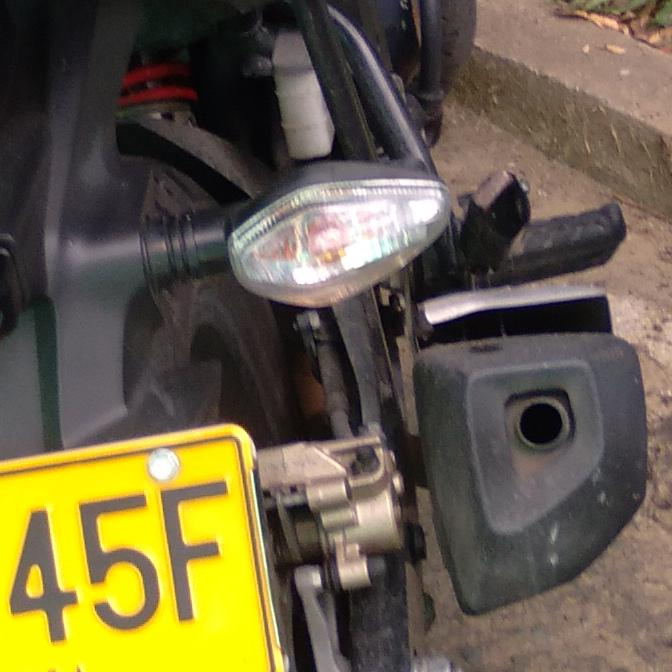plates: (0, 418, 284, 672)
